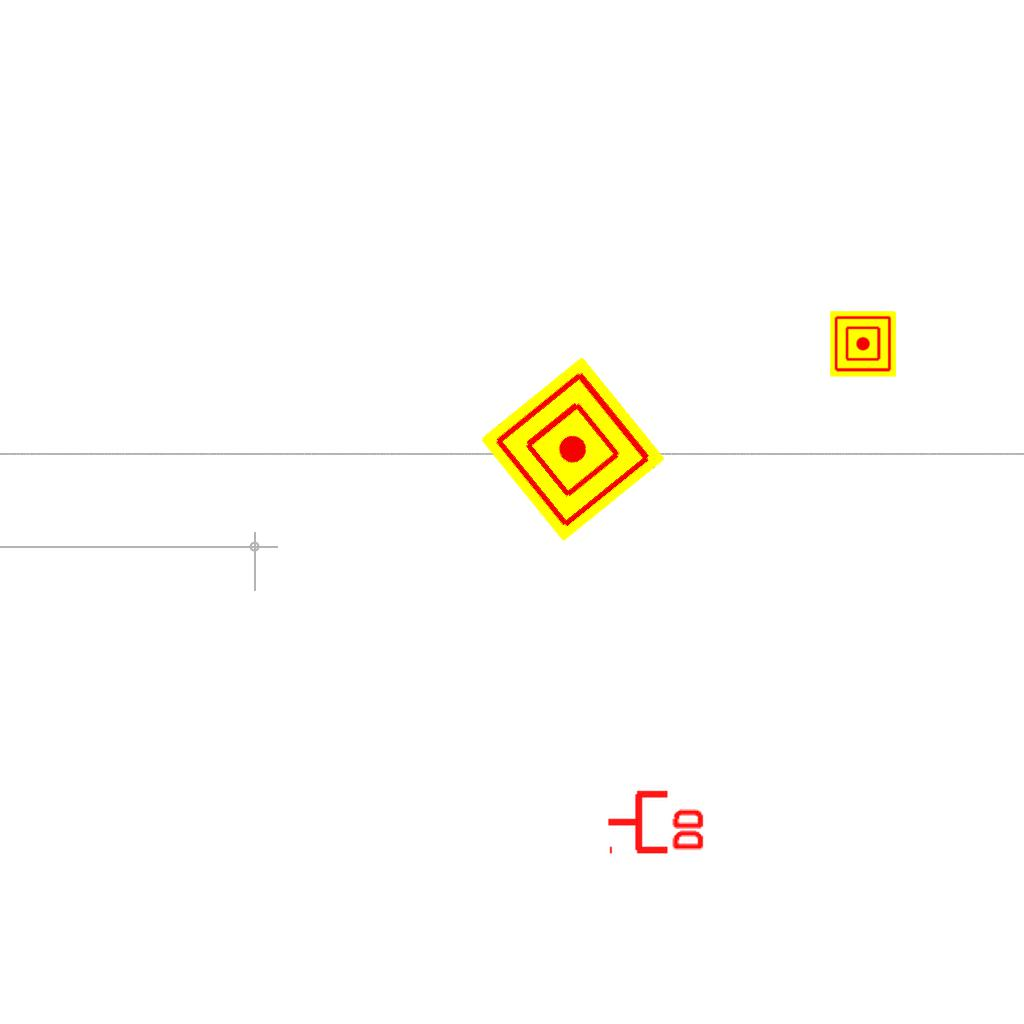Datenanschluss_zweifach: (605, 786, 708, 855)
NAM-Nichtautomatischer_Melder: (480, 356, 666, 542), (830, 311, 896, 377)
